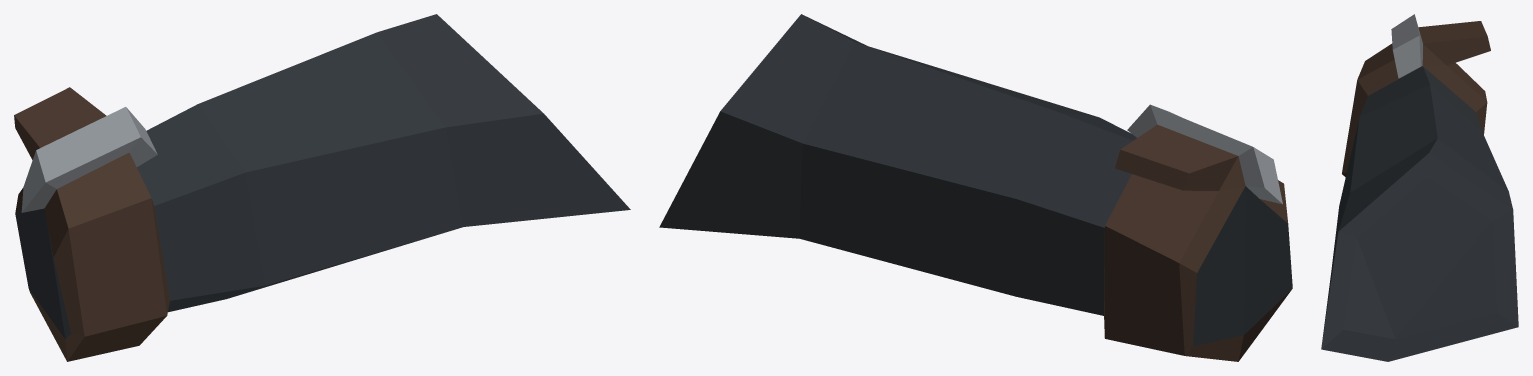
The model's file is Chr_ArmUpperRight_Female_10_Static.fbx.
The picture shows the model from 3 angles, left to right: view 1: azimuth 30°, elevation 25°; view 2: azimuth 150°, elevation 25°; view 3: azimuth 270°, elevation 25°; orthographic projection. The views are drawn at different scales.
Parts seen in each view (by area): view 1: Chr_ArmUpperRight_Female_10_Static; view 2: Chr_ArmUpperRight_Female_10_Static; view 3: Chr_ArmUpperRight_Female_10_Static.
Boxes of the visible parts, <box> form: Chr_ArmUpperRight_Female_10_Static: <box>14,14,630,361</box>; Chr_ArmUpperRight_Female_10_Static: <box>659,14,1292,361</box>; Chr_ArmUpperRight_Female_10_Static: <box>1321,14,1518,361</box>.
Size of the model in its own units: 0.3623 by 0.1503 by 0.136.
